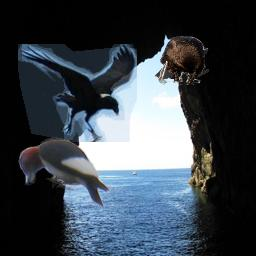Crow: (18, 44, 137, 142), (154, 36, 209, 85)
Woodpecker: (16, 137, 112, 209)
